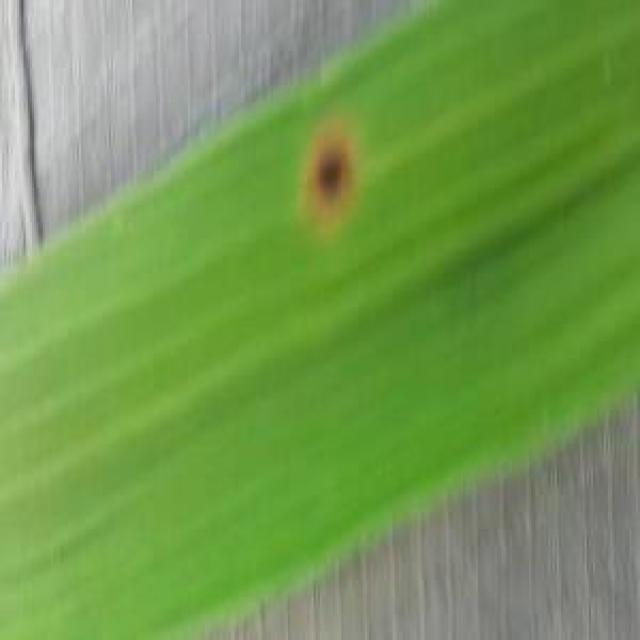Brown_Spot: (290, 114, 372, 218)
